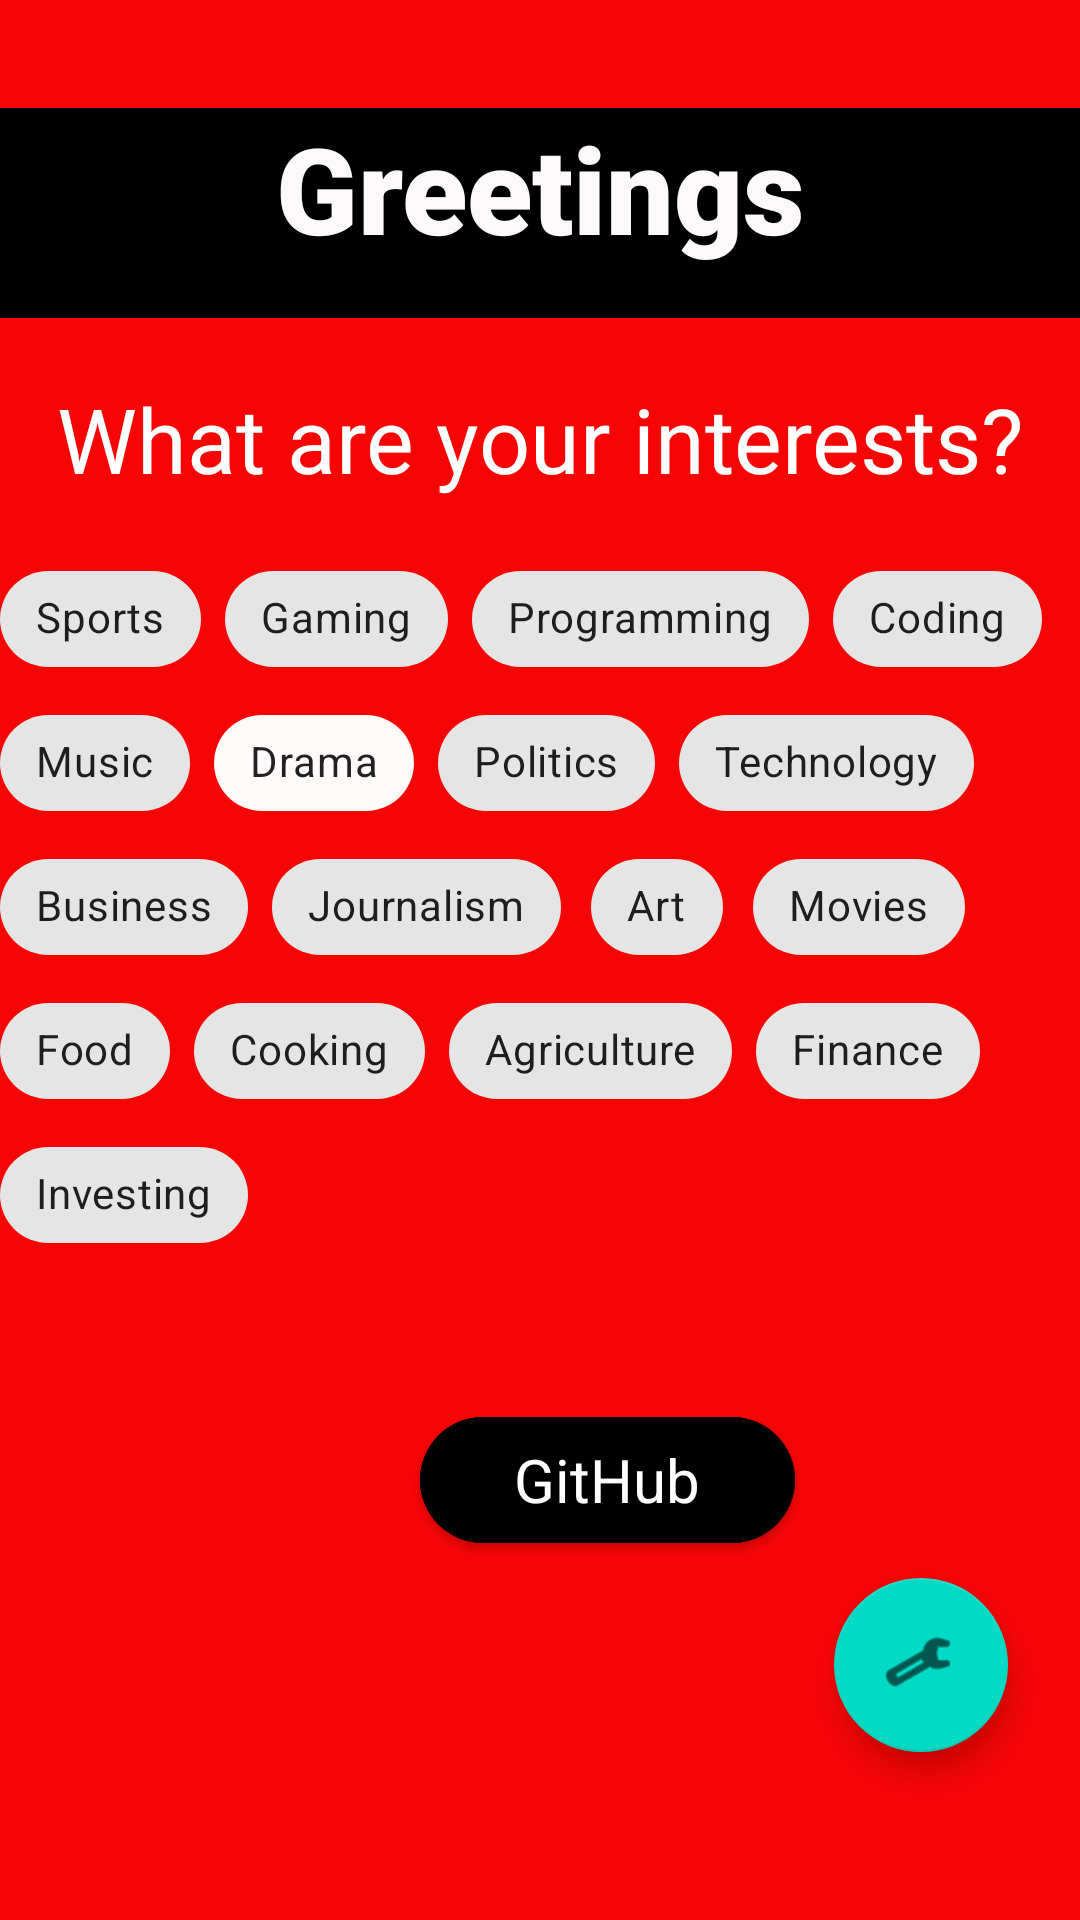

Icon click points for this 1080x1920 phone screenshot, format (x=x, y=y):
preferences: (x=921, y=1665)
